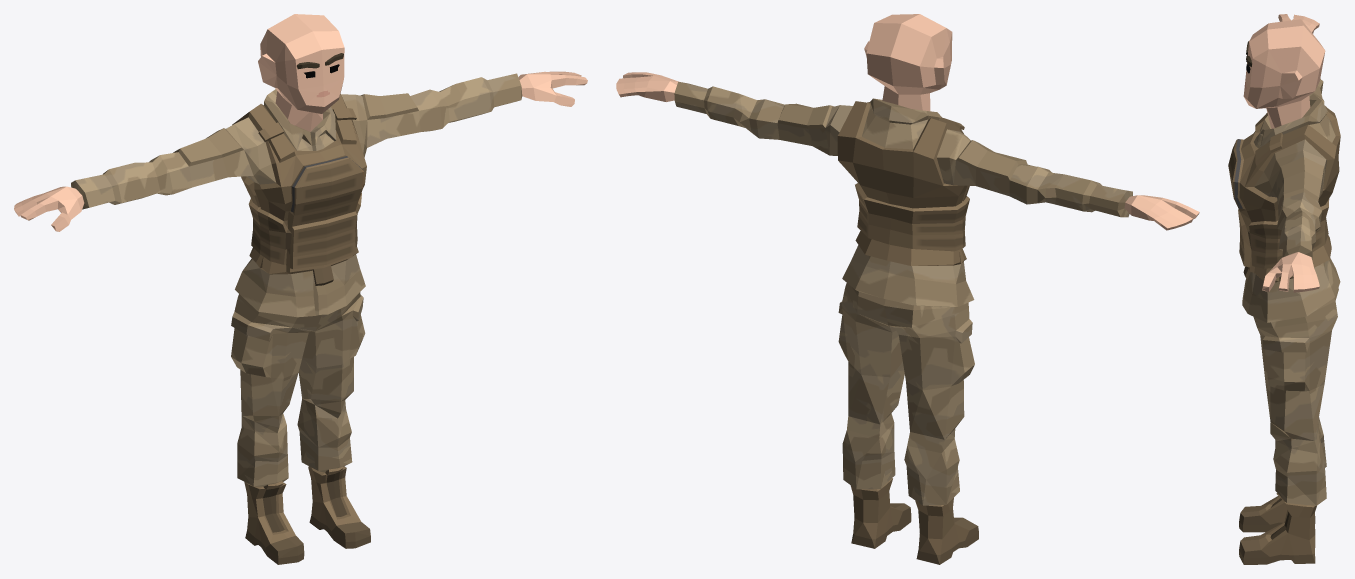
The model's file is SM_Chr_Soldier_Female_02.fbx.
3 views of the same model, side by side, from view 1: azimuth 30°, elevation 25°; view 2: azimuth 150°, elevation 25°; view 3: azimuth 270°, elevation 25° (orthographic).
Visible parts, largest first — view 1: SM_Chr_Soldier_Female_02; view 2: SM_Chr_Soldier_Female_02; view 3: SM_Chr_Soldier_Female_02.
Part boxes in pixels (bbox=[...]): SM_Chr_Soldier_Female_02: bbox=[14, 14, 587, 564]; SM_Chr_Soldier_Female_02: bbox=[616, 14, 1199, 564]; SM_Chr_Soldier_Female_02: bbox=[1228, 14, 1340, 564].
Bounding box in the file's own units: 204 × 179 × 35.31.
